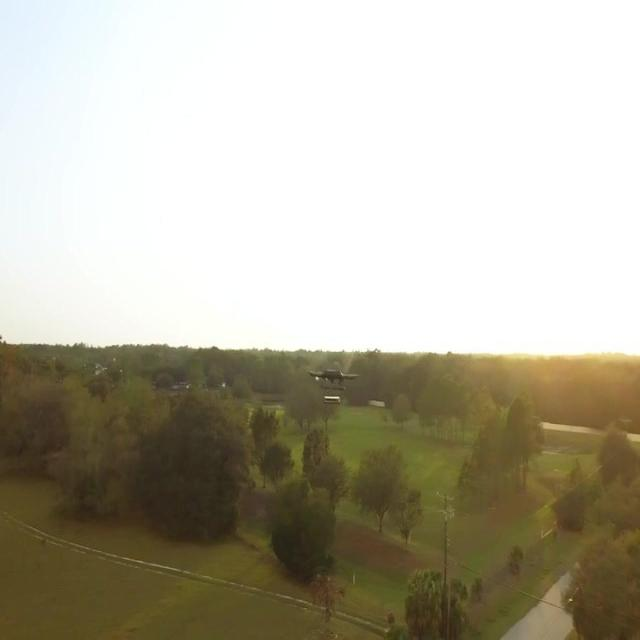drone: (305, 364, 359, 409)
